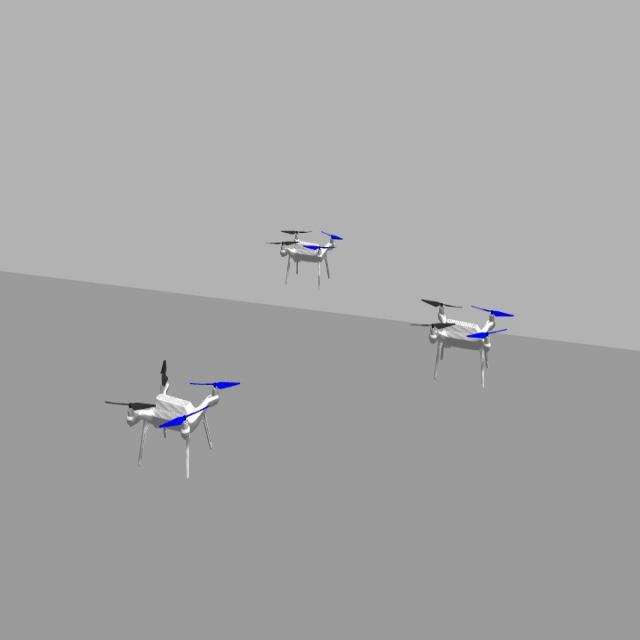Drone: (262, 207, 348, 291)
